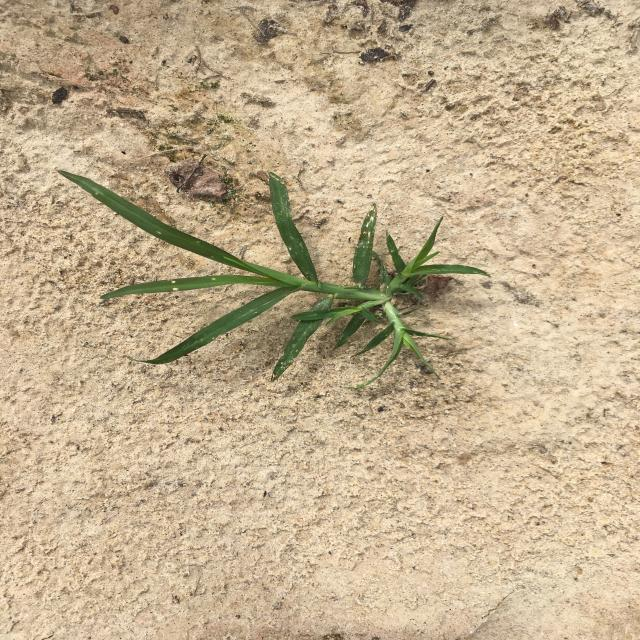Goosegrass: (57, 170, 491, 389)
